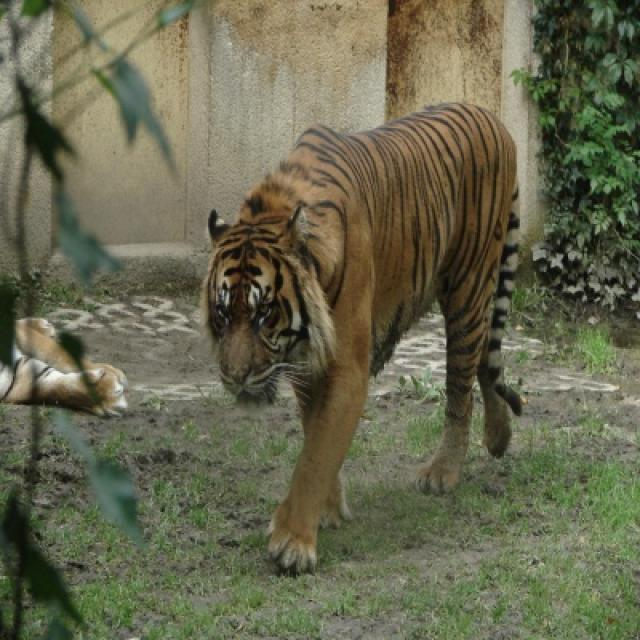Tiger: (195, 98, 527, 577)
